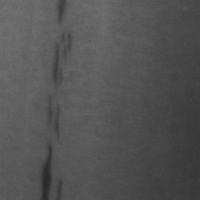inclusion: (44, 18, 78, 90), (39, 142, 68, 197), (40, 89, 69, 143), (51, 0, 75, 26)
